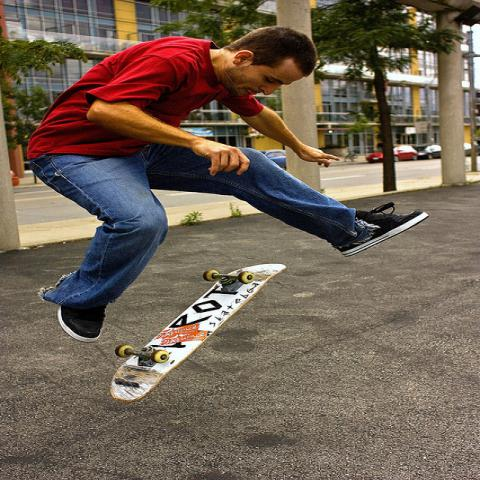car: (365, 145, 418, 164), (260, 149, 287, 169), (413, 144, 442, 160), (464, 143, 471, 156)
